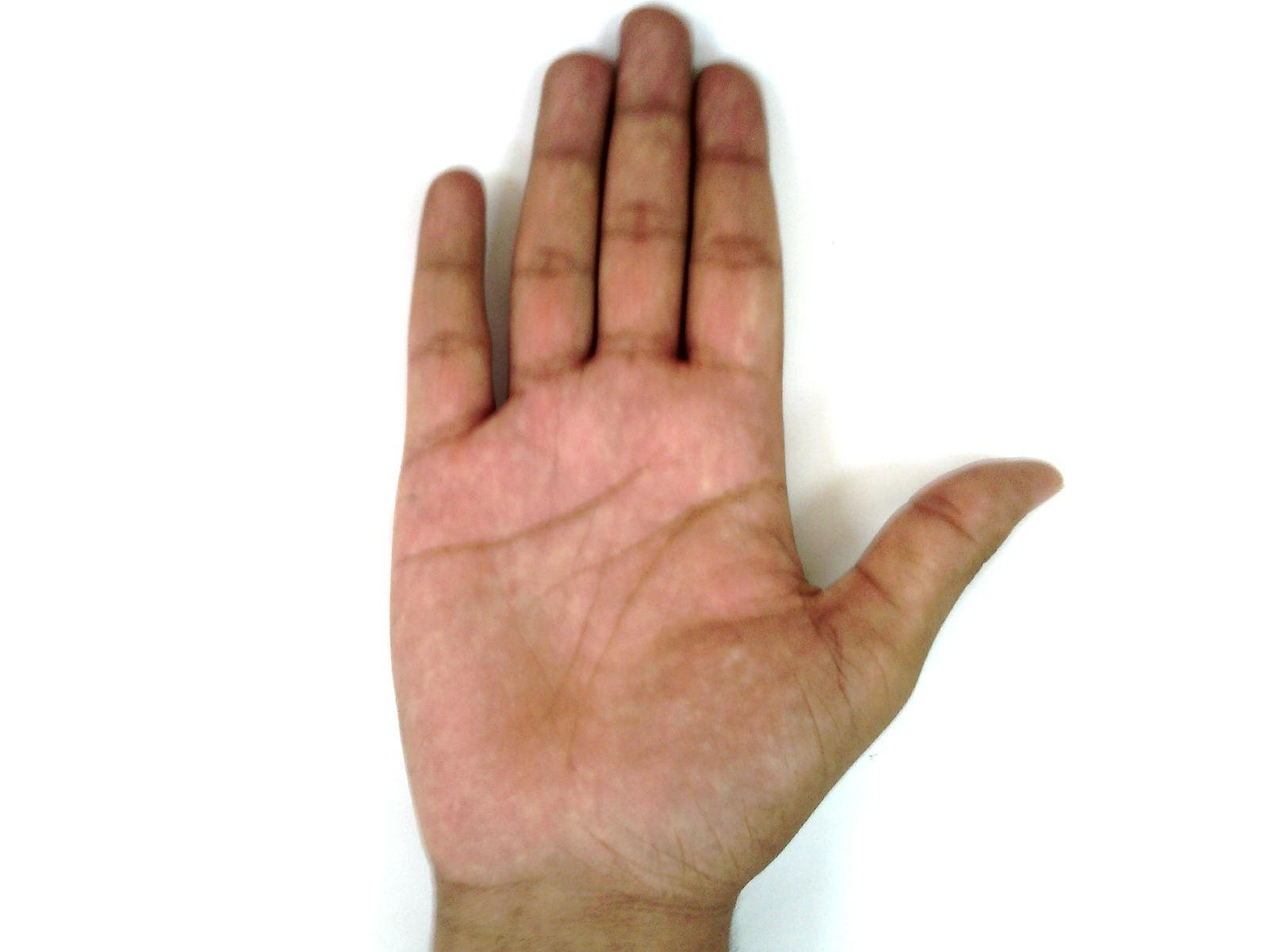open_palm: (384, 8, 1066, 914)
